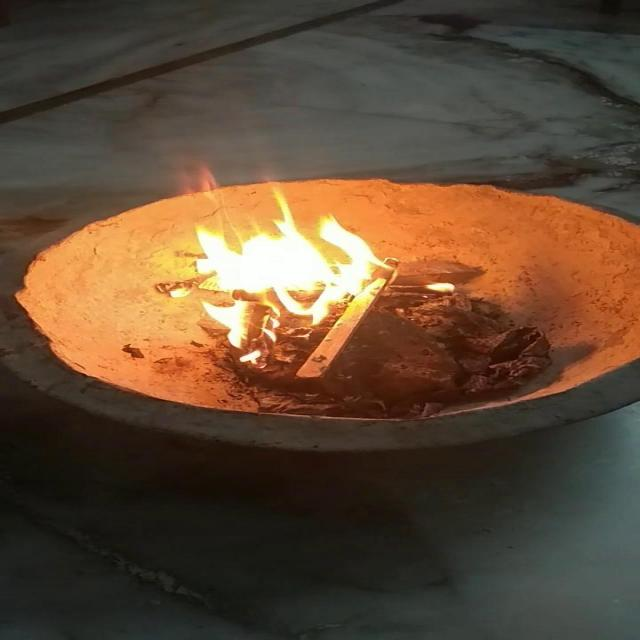fire: (163, 150, 431, 360)
